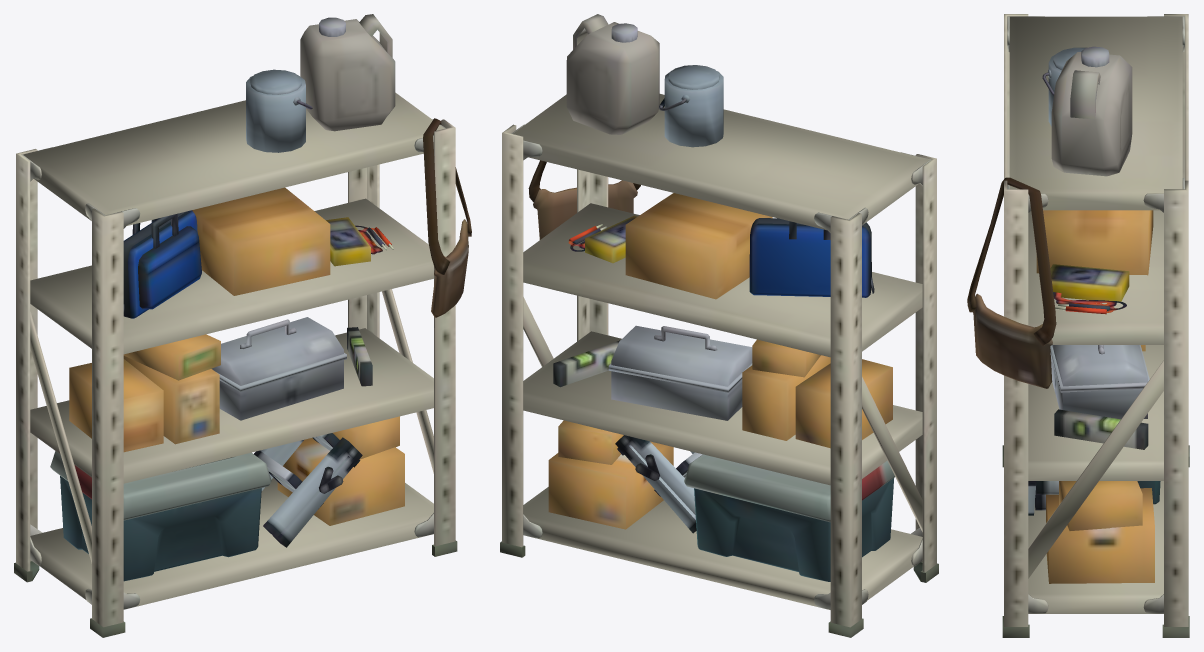
3 views of the same model, side by side, from view 1: azimuth 30°, elevation 25°; view 2: azimuth 150°, elevation 25°; view 3: azimuth 270°, elevation 25° (orthographic). The views are drawn at different scales.
Size of the model in its own units: 18.3 by 23.09 by 8.56.
Materials: 1 (1 with a texture image).
